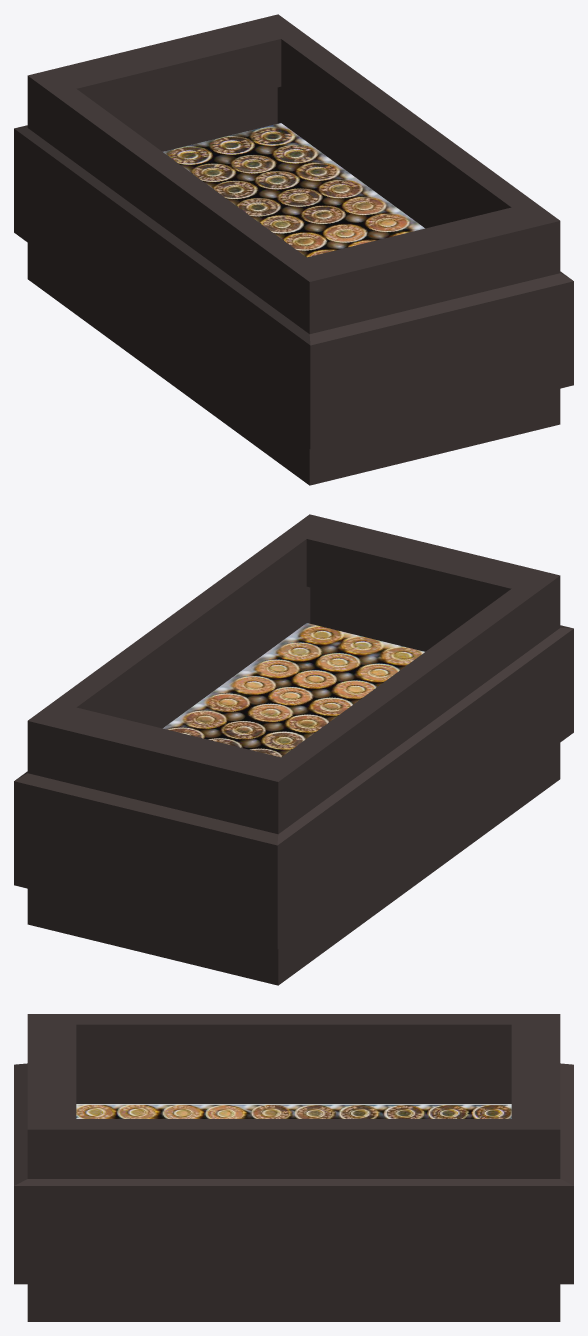
Rendered from BulletsPack.fbx.
3 views of the same model, one above another, from view 1: azimuth 30°, elevation 25°; view 2: azimuth 150°, elevation 25°; view 3: azimuth 270°, elevation 25° (orthographic). The views are drawn at different scales.
Visible parts, largest first — view 1: Pack, Bullets; view 2: Pack, Bullets; view 3: Pack, Bullets.
Boxes of the visible parts, x1=… form: Pack: x1=14, y1=14, x2=573, y2=485; Bullets: x1=163, y1=123, x2=424, y2=257; Pack: x1=14, y1=514, x2=573, y2=985; Bullets: x1=163, y1=623, x2=424, y2=757; Pack: x1=14, y1=1014, x2=573, y2=1321; Bullets: x1=76, y1=1104, x2=511, y2=1118.
Bounding box in the file's own units: 0.2804 × 0.207 × 0.5463.
